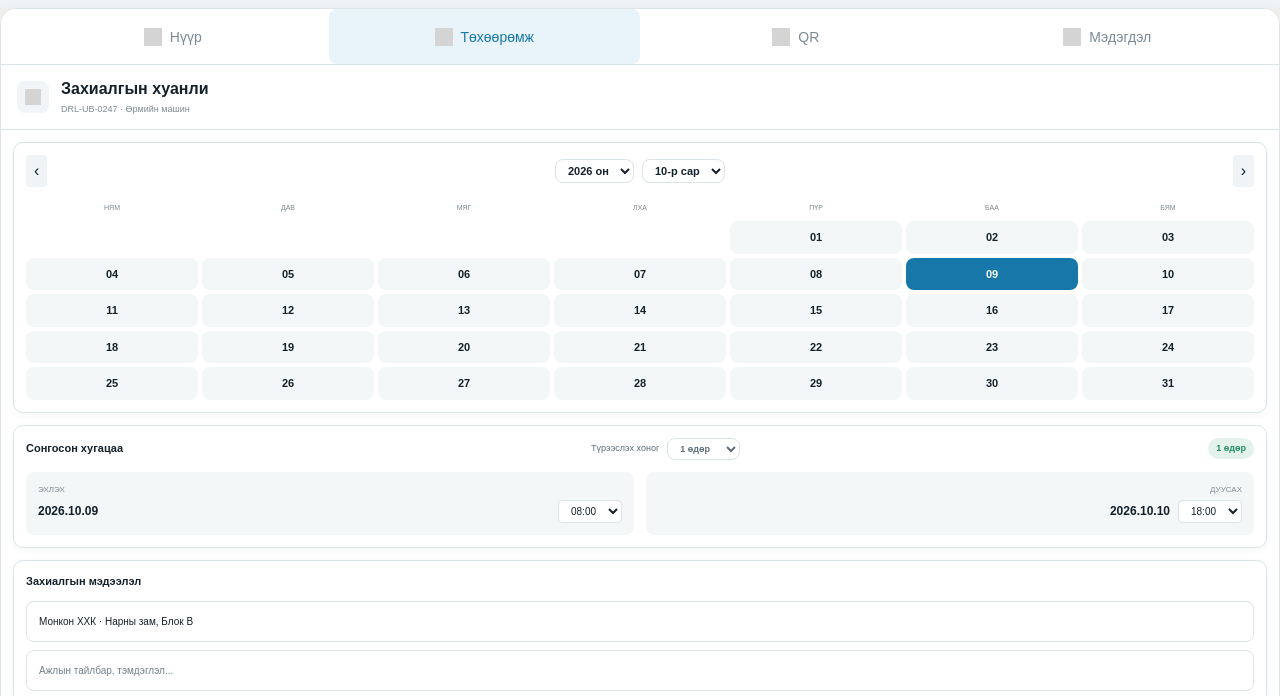
MobileOpsApp screens › updates the calendar selection and continues to checkout
The image size is (1280, 696).
Click the button "10". click: (1168, 274)
box: [1082,258,1254,290]
(page scrolled)
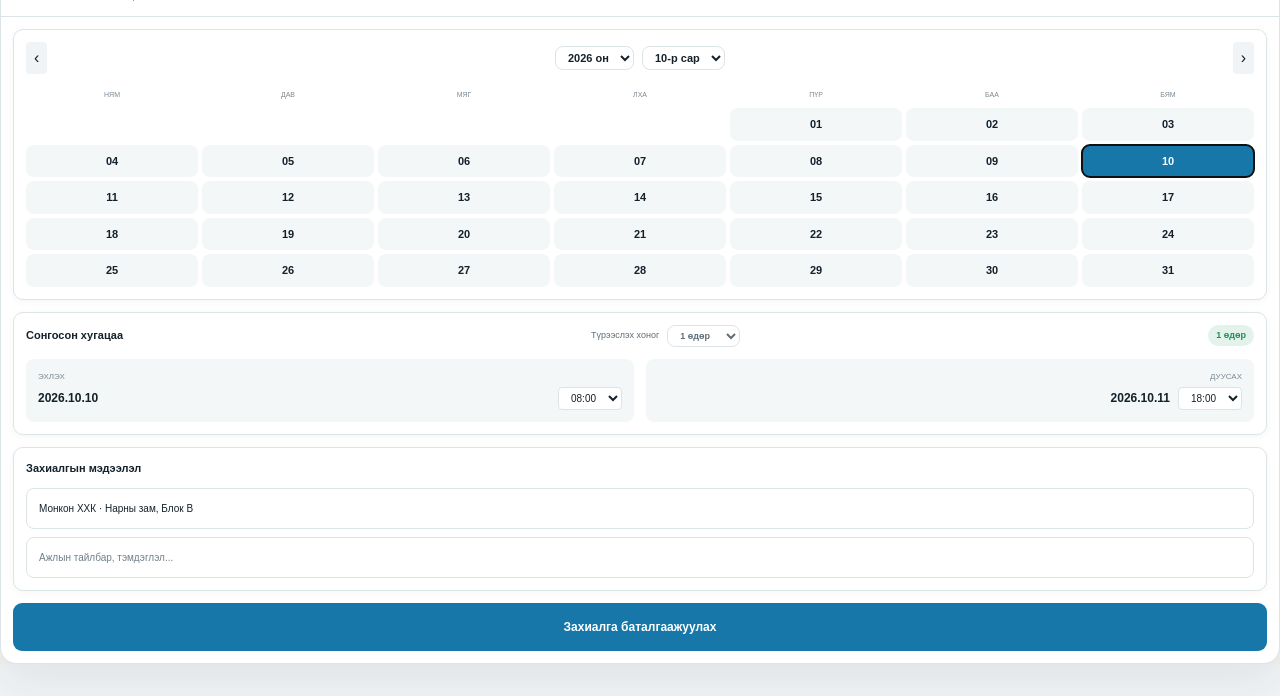
Now the text "2026.10.10" is shown, box [38,389,98,407]
Click the button "Захиалга баталгаажуулах". click: (640, 627)
box: [13,603,1267,651]
(page scrolled)
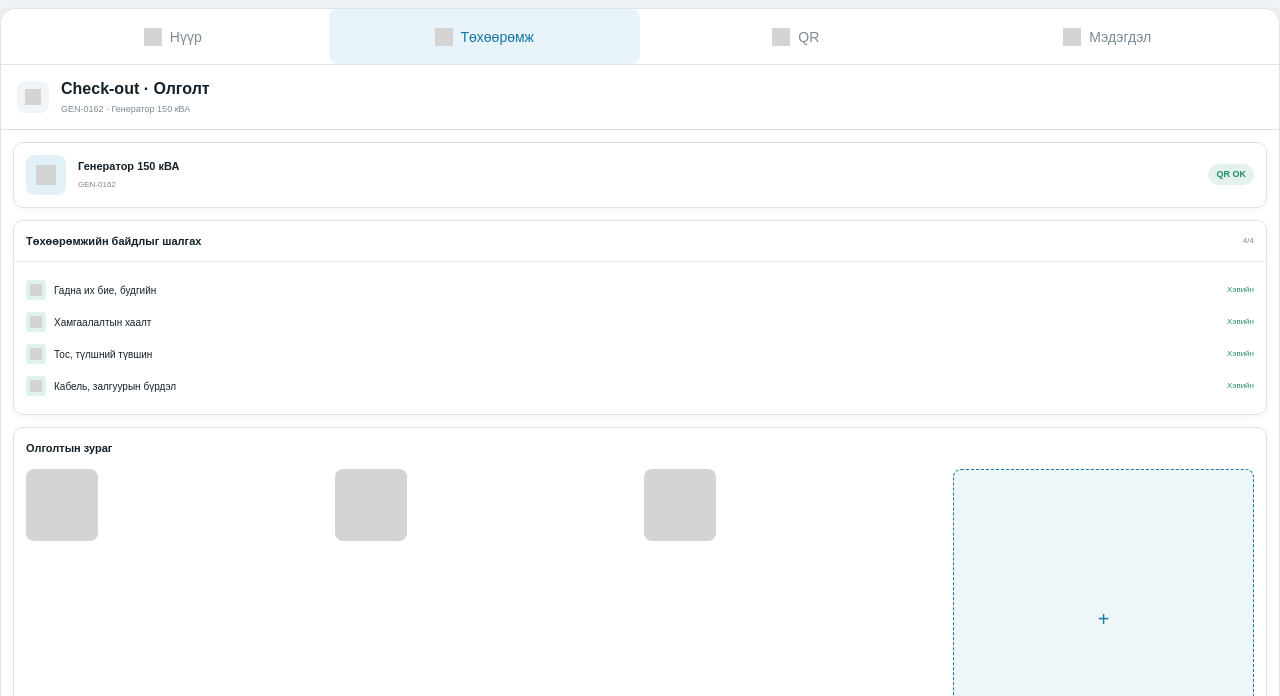
Now the heading "Check-out · Олголт" is shown, box [61,77,210,101]
